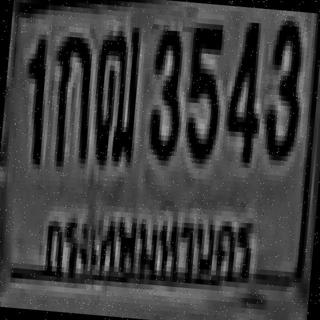A01: (47, 31, 94, 163)
A18: (87, 19, 142, 162)
N01: (18, 31, 49, 162)
N03: (259, 14, 305, 156), (145, 24, 185, 156)
N04: (220, 16, 264, 163)
N05: (180, 18, 223, 160)
P04: (33, 182, 265, 308)
